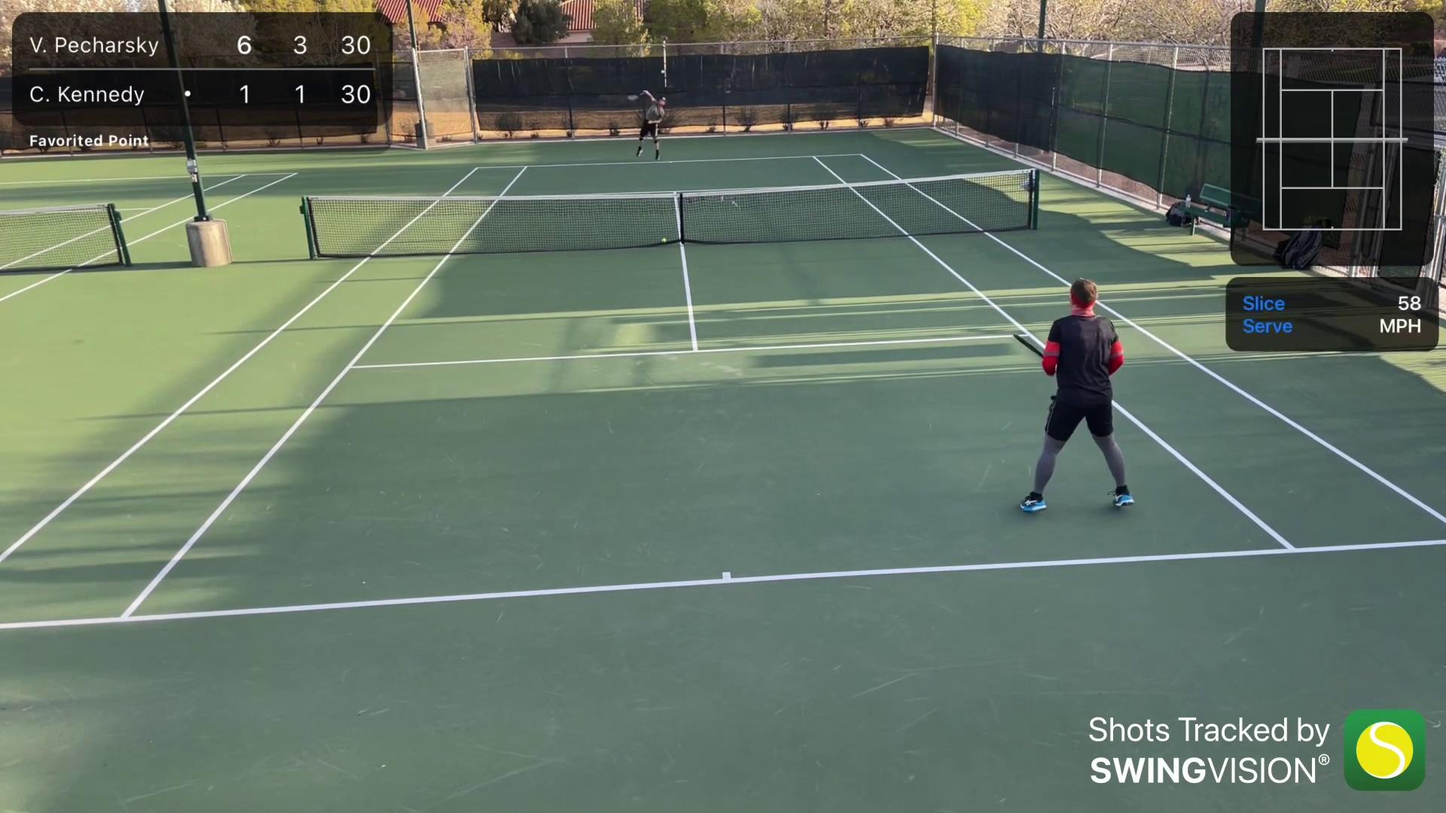ball: (658, 236, 669, 245), (661, 68, 668, 76)
